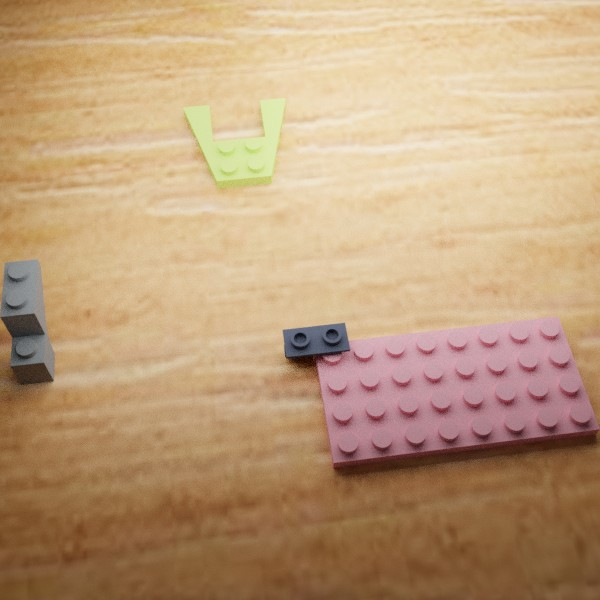lego: (313, 316, 599, 468), (183, 98, 285, 188), (0, 259, 55, 384), (282, 322, 350, 359)
